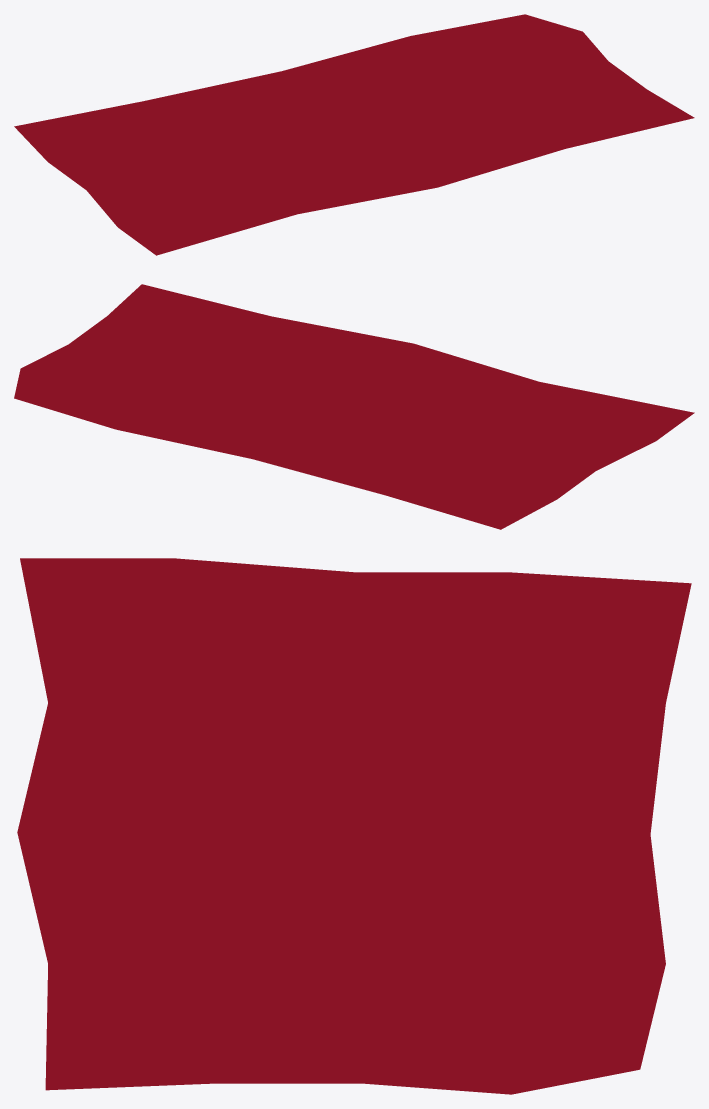
File: Carpet001.fbx
3 renders of one model, top to bottom at view 1: azimuth 30°, elevation 25°; view 2: azimuth 150°, elevation 25°; view 3: azimuth 270°, elevation 25°, orthographic. The views are drawn at different scales.
Visible parts, largest first — view 1: Carpet001; view 2: Carpet001; view 3: Carpet001.
Boxes of the visible parts, box(x1,y1,x2,y2) form: Carpet001: box(14, 14, 694, 255); Carpet001: box(14, 284, 694, 529); Carpet001: box(17, 558, 691, 1094).
Bounding box in the file's own units: 411 × 3.56e-05 × 218.
